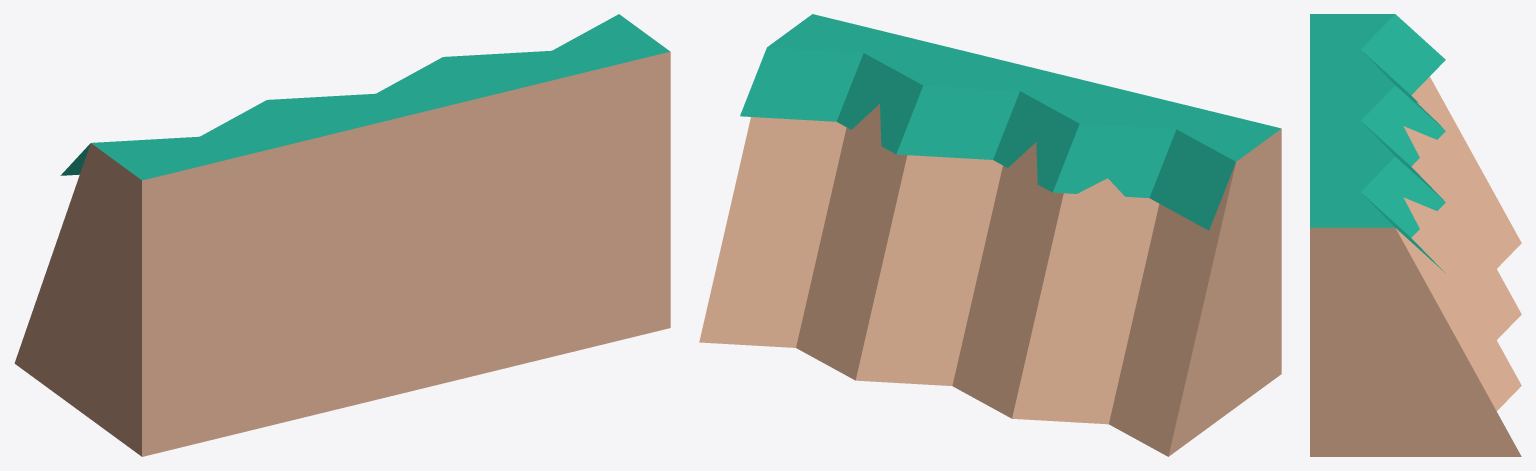
Rendered from cliff_half_rock.glb.
The picture shows the model from 3 angles, left to right: view 1: azimuth 30°, elevation 25°; view 2: azimuth 150°, elevation 25°; view 3: azimuth 270°, elevation 25°; orthographic projection. The views are drawn at different scales.
Parts seen in each view (by area): view 1: cliff_half_rock; view 2: cliff_half_rock; view 3: cliff_half_rock.
Boxes of the visible parts, left/top/right/bottom form: cliff_half_rock: left=14, top=14, right=670, bottom=456; cliff_half_rock: left=699, top=14, right=1281, bottom=456; cliff_half_rock: left=1310, top=14, right=1521, bottom=456.
Bounding box in the file's own units: 1.2 × 0.6 × 0.5022.
